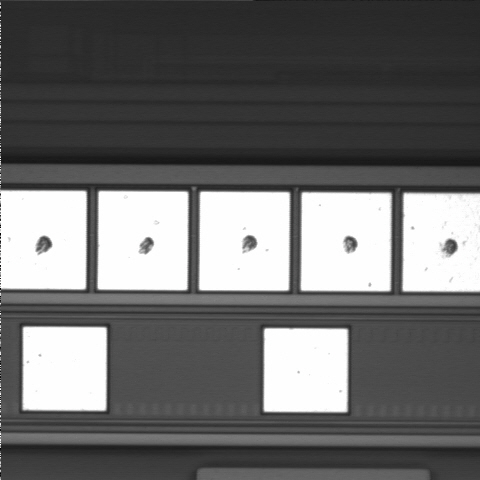pad: (199, 192, 290, 291), (98, 191, 188, 290), (301, 193, 391, 291), (264, 329, 348, 412), (23, 327, 106, 410)
